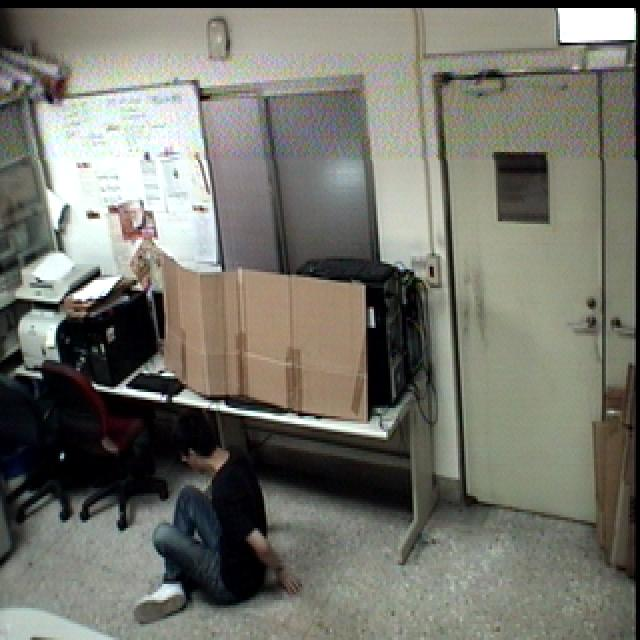sit: (134, 401, 310, 627)
